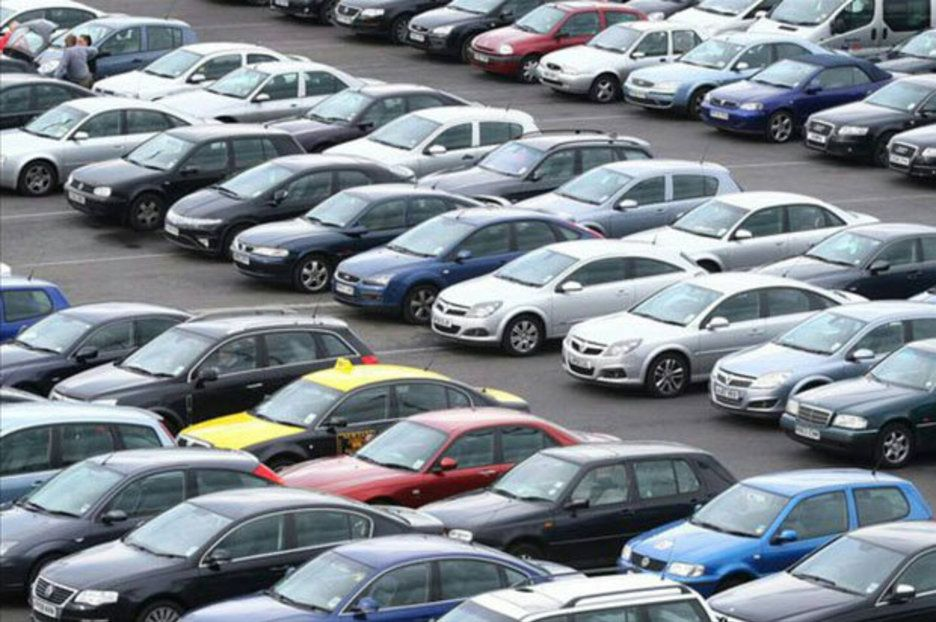Car: (29, 487, 445, 622), (421, 438, 736, 575), (0, 448, 280, 593), (619, 469, 933, 597), (50, 314, 378, 436), (177, 359, 530, 471), (562, 272, 872, 397), (177, 536, 581, 622), (280, 408, 621, 508), (430, 239, 711, 356), (332, 207, 600, 325), (230, 184, 510, 293), (709, 300, 936, 418), (64, 124, 304, 231), (163, 154, 414, 256), (704, 521, 936, 622), (0, 95, 218, 197), (616, 191, 882, 273), (781, 339, 936, 469), (0, 400, 174, 507), (0, 302, 193, 397), (511, 159, 741, 238), (623, 33, 835, 117), (701, 54, 892, 143), (420, 130, 654, 202), (323, 105, 539, 178), (747, 222, 936, 300), (469, 0, 645, 82), (157, 62, 385, 124), (435, 573, 719, 622), (269, 85, 473, 153), (537, 20, 702, 104), (92, 42, 307, 101), (804, 74, 936, 164), (746, 0, 936, 58), (37, 16, 197, 83), (407, 0, 550, 62), (0, 75, 99, 129), (332, 0, 451, 43), (0, 276, 70, 343), (666, 0, 779, 41), (0, 0, 108, 38), (863, 29, 936, 78), (0, 17, 60, 74), (886, 124, 936, 177), (270, 0, 339, 24), (623, 0, 699, 20), (0, 386, 50, 405), (909, 285, 936, 304)
